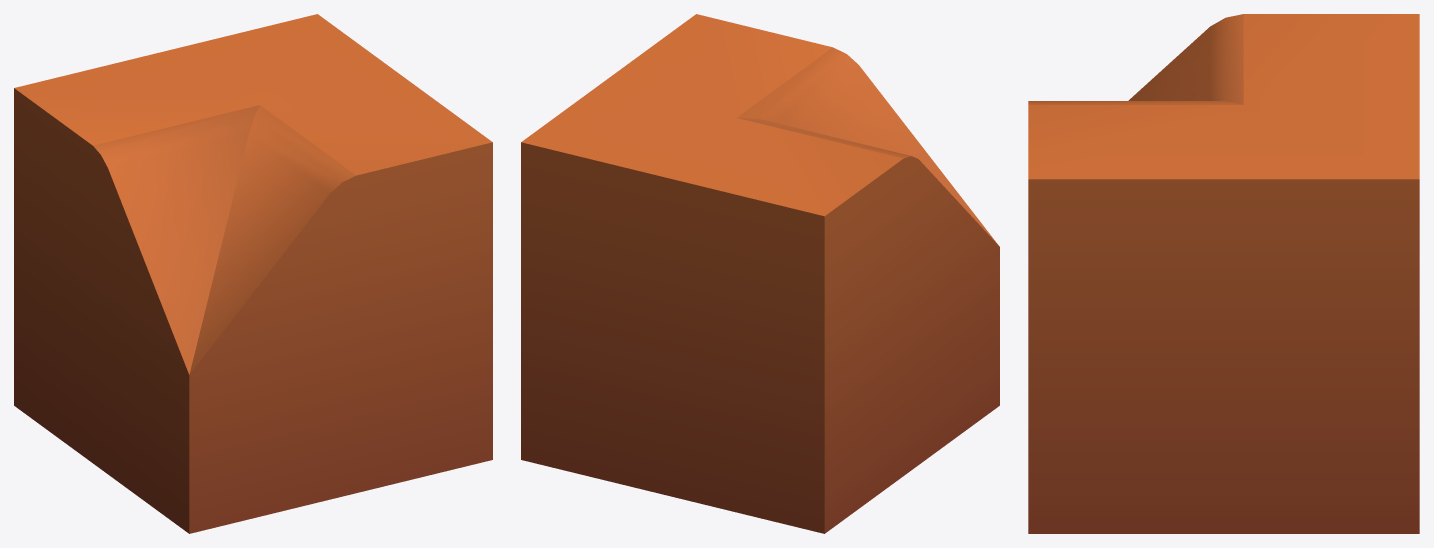
File: terrain_slope_inner_corner.glb
The picture shows the model from 3 angles, left to right: view 1: azimuth 30°, elevation 25°; view 2: azimuth 150°, elevation 25°; view 3: azimuth 270°, elevation 25°; orthographic projection. The views are drawn at different scales.
Visible parts, largest first — view 1: terrain_slope_inner_corner; view 2: terrain_slope_inner_corner; view 3: terrain_slope_inner_corner.
Part boxes in pixels (<box>): terrain_slope_inner_corner: <box>14,14,492,533</box>; terrain_slope_inner_corner: <box>521,14,999,533</box>; terrain_slope_inner_corner: <box>1028,14,1419,533</box>.
Size of the model in its own units: 6 by 6 by 6.
Materials: 1 (1 with a texture image).
